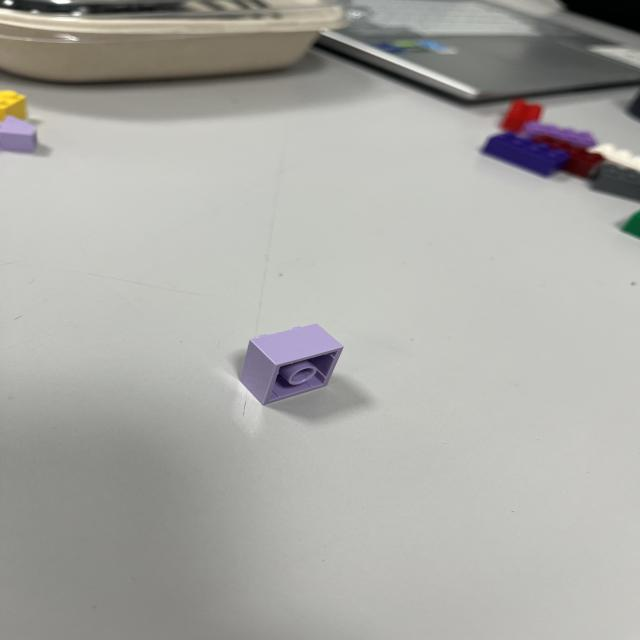C2x2x1: (238, 322, 344, 406)
